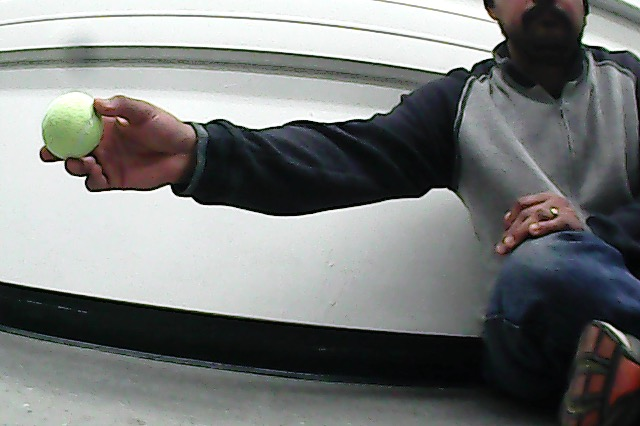ball: (40, 91, 109, 166)
